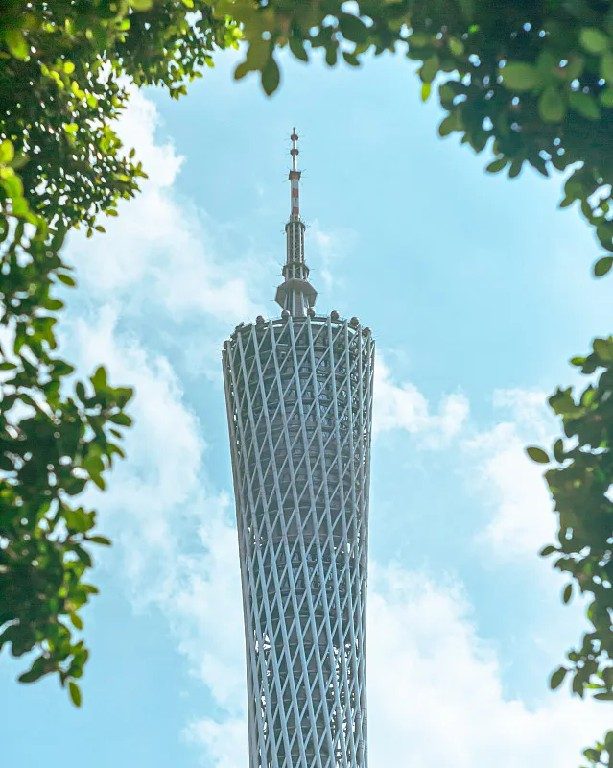Canton: (219, 125, 376, 768)
